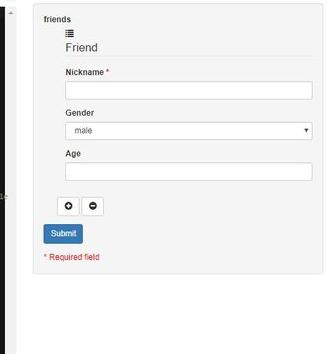button: (41, 222, 84, 245)
field: (64, 80, 314, 102), (64, 161, 314, 183), (64, 120, 313, 142)
field_with_label: (62, 66, 316, 103), (61, 149, 316, 185), (63, 109, 315, 144)
